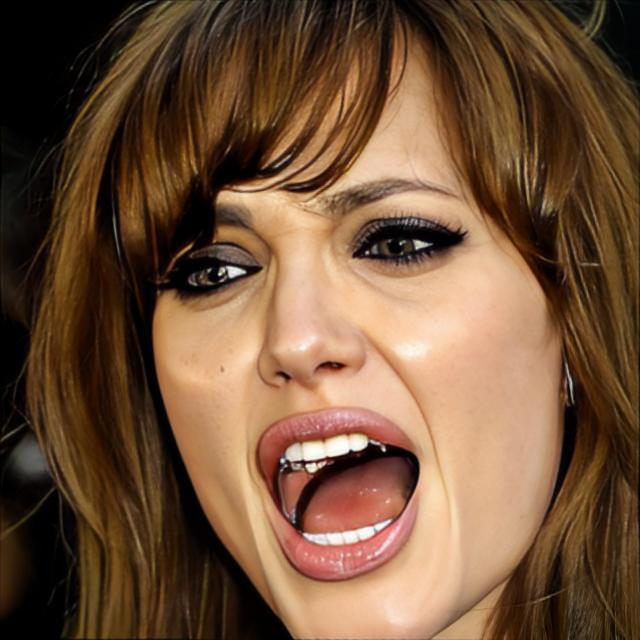anger: (150, 14, 564, 636)
